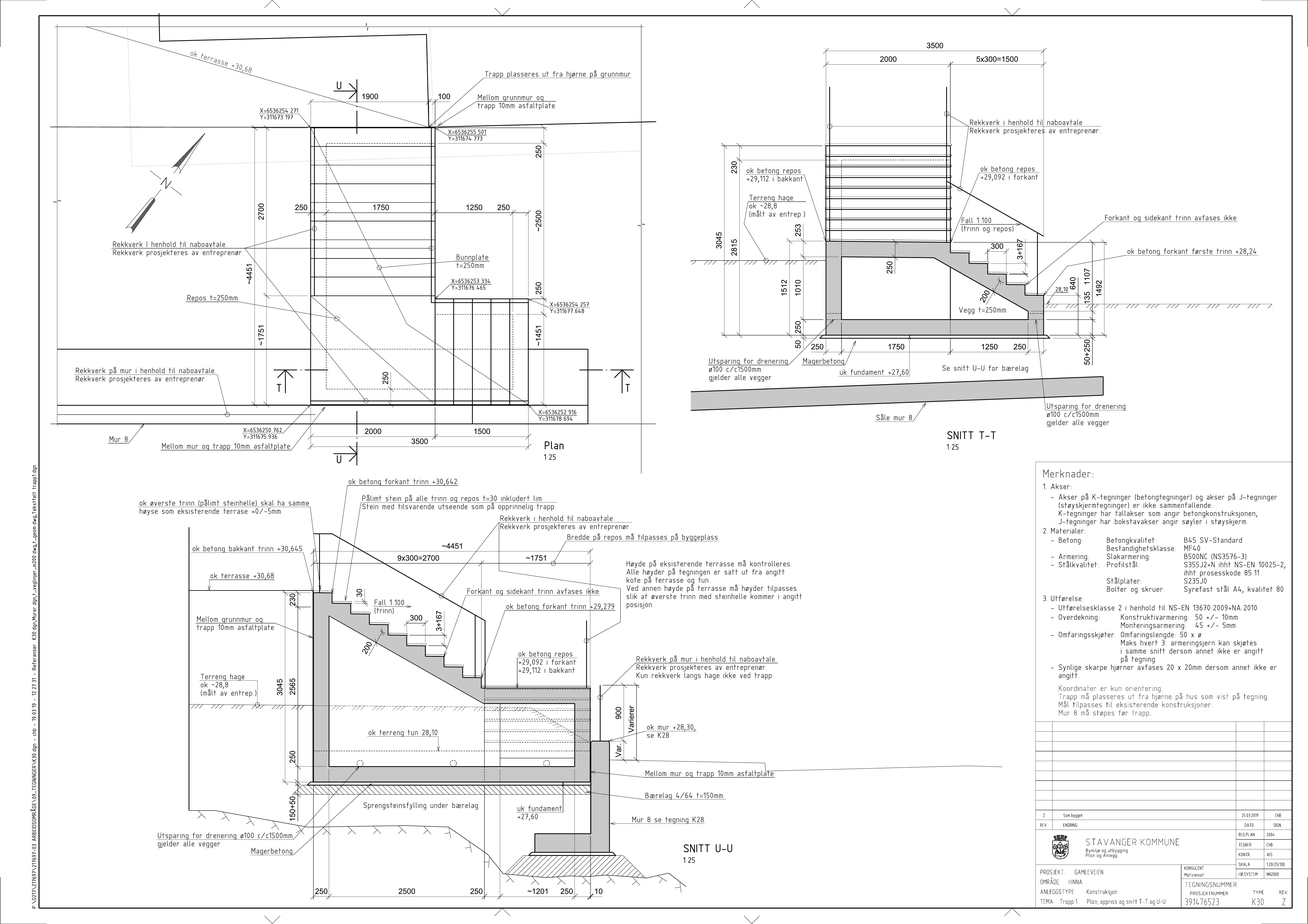plantegning: (311, 127, 590, 408)
snitt: (309, 532, 614, 855), (825, 143, 1050, 340)
